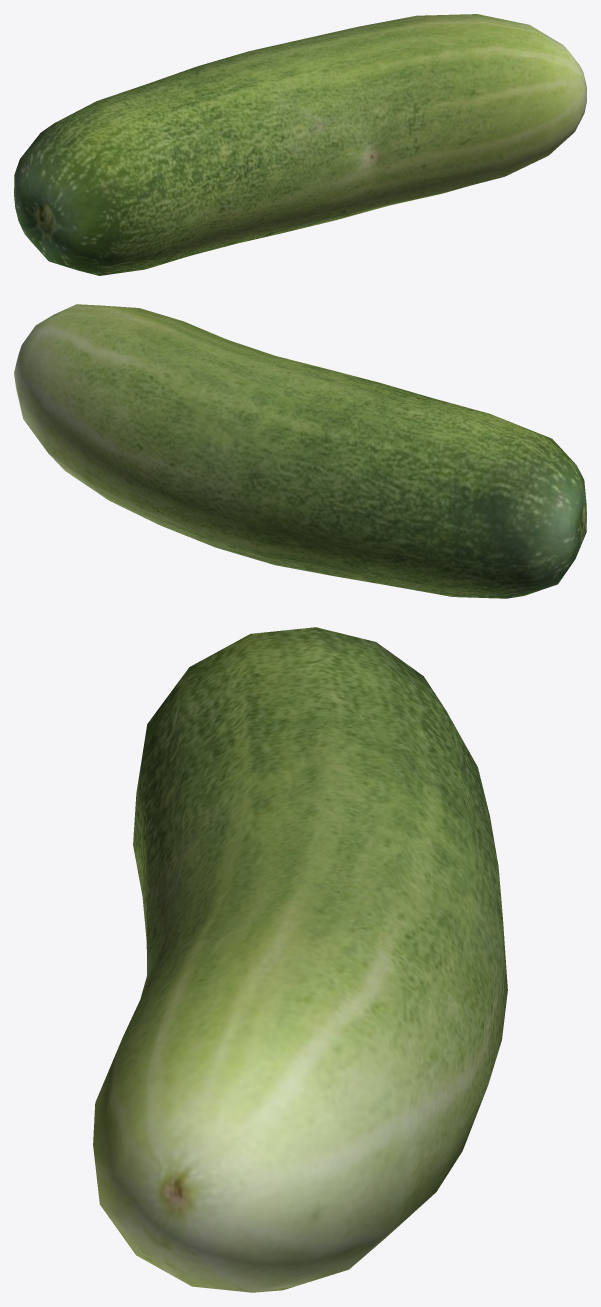
Rendered from A104_Cucumber_low.fbx.
The picture shows the model from 3 angles, top to bottom: view 1: azimuth 30°, elevation 25°; view 2: azimuth 150°, elevation 25°; view 3: azimuth 270°, elevation 25°; orthographic projection. The views are drawn at different scales.
Visible parts, largest first — view 1: A104_Cucumber_low; view 2: A104_Cucumber_low; view 3: A104_Cucumber_low.
Boxes of the visible parts, x1,y1,x2,y2 form: A104_Cucumber_low: (14,14,586,275); A104_Cucumber_low: (14,304,586,598); A104_Cucumber_low: (93,627,507,1292).
Size of the model in its own units: 19.29 by 6.48 by 6.
Materials: 1 (1 with a texture image).
